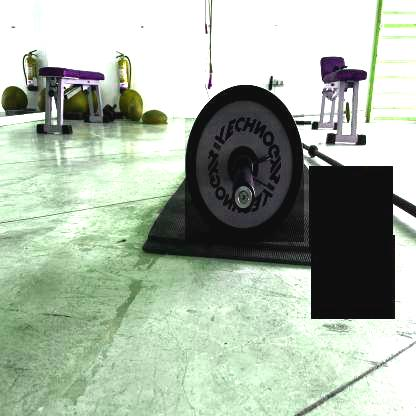barbell: (184, 85, 303, 243)
